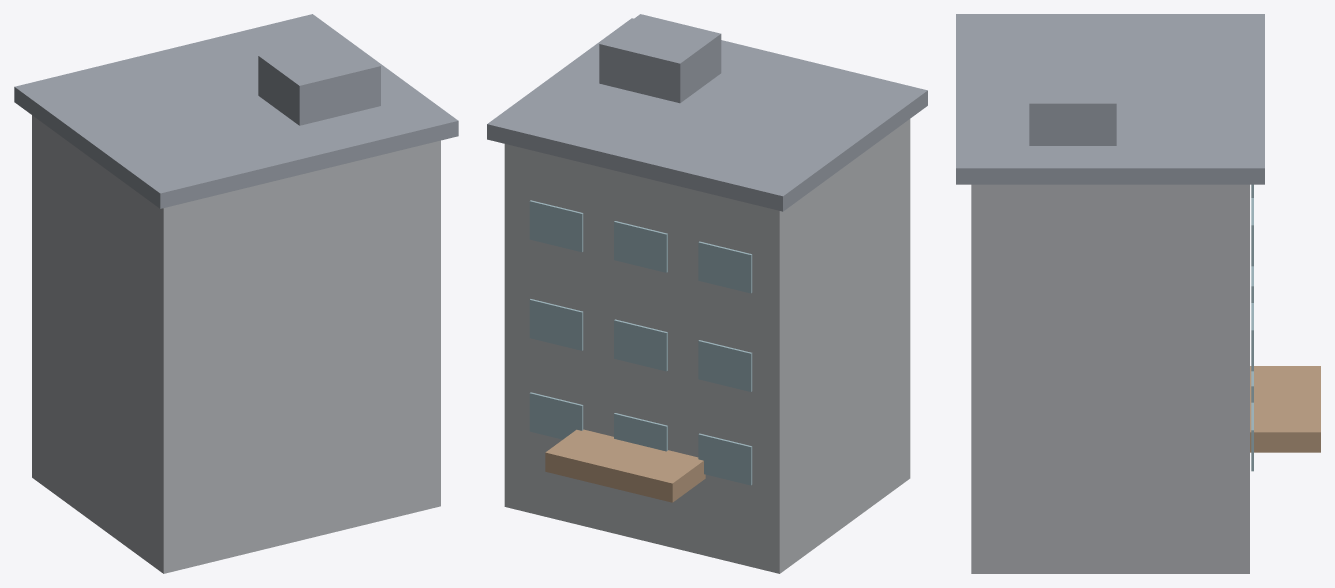
Rendered from building_company.glb.
3 views of the same model, side by side, from view 1: azimuth 30°, elevation 25°; view 2: azimuth 150°, elevation 25°; view 3: azimuth 270°, elevation 25° (orthographic). The views are drawn at different scales.
Visible parts, largest first — view 1: 000_tower, 001_roof_slab, 012_rooftop_unit; view 2: 000_tower, 001_roof_slab, 012_rooftop_unit, 002_entrance_canopy, 009_front_window_2.3_-0.69, 006_front_window_1.53_-0.69, 011_front_window_2.3_0.69, 008_front_window_1.53_0.69, 010_front_window_2.3_0, 007_front_window_1.53_0, 003_front_window_0.8_-0.69, 005_front_window_0.8_0.69 (+1 smaller); view 3: 000_tower, 001_roof_slab, 012_rooftop_unit, 002_entrance_canopy.
Boxes of the visible parts, box(x1,y1,x2,y2) form: 000_tower: box(32, 115, 440, 573); 001_roof_slab: box(14, 14, 458, 208); 012_rooftop_unit: box(258, 36, 380, 125); 000_tower: box(504, 119, 910, 573); 001_roof_slab: box(487, 18, 927, 211); 012_rooftop_unit: box(599, 14, 721, 103); 002_entrance_canopy: box(545, 429, 705, 502); 009_front_window_2.3_-0.69: box(698, 241, 752, 293); 006_front_window_1.53_-0.69: box(698, 340, 752, 391); 011_front_window_2.3_0.69: box(529, 200, 583, 252); 008_front_window_1.53_0.69: box(529, 299, 583, 350); 010_front_window_2.3_0: box(614, 221, 667, 272); 007_front_window_1.53_0: box(614, 319, 667, 371); 003_front_window_0.8_-0.69: box(698, 433, 752, 485); 005_front_window_0.8_0.69: box(529, 392, 583, 439); 000_tower: box(971, 184, 1249, 573); 001_roof_slab: box(956, 14, 1264, 184); 012_rooftop_unit: box(1029, 61, 1116, 145); 002_entrance_canopy: box(1250, 366, 1320, 452).
Size of the model in its own units: 2.42 by 3.32 by 2.42.
